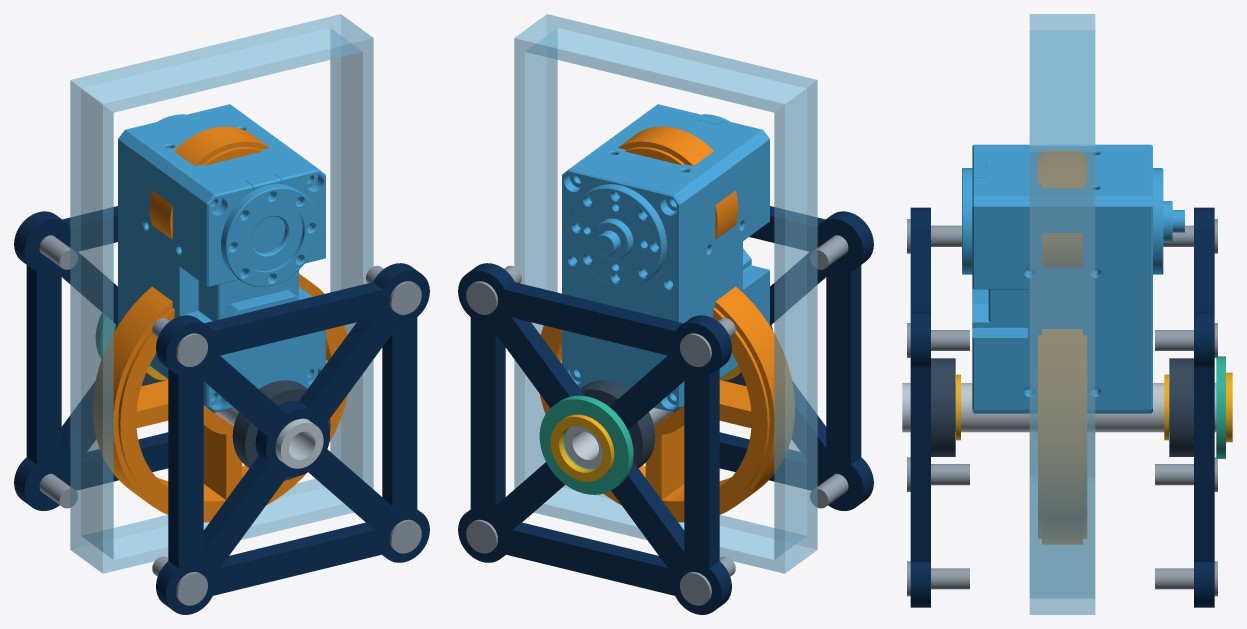
Rendered from JMF-09-KNEE-REDUCED-20_assembly.glb.
3 renders of one model, left to right at view 1: azimuth 30°, elevation 25°; view 2: azimuth 150°, elevation 25°; view 3: azimuth 270°, elevation 25°, orthographic.
Parts seen in each view (by area): view 1: TRANSMISSION_GUARD, CARRIER_A, ACTUATOR, CARRIER_B, TIMING_BELT, OUTPUT_PULLEY, OUTPUT_SHAFT, BEARING_A, CARRIER_A_SCREW_21, CARRIER_A_SCREW_22, CARRIER_A_SCREW_12, CARRIER_A_SCREW_11 (+2 smaller); view 2: TRANSMISSION_GUARD, CARRIER_B, ACTUATOR, CARRIER_A, TIMING_BELT, OUTPUT_PULLEY, OUTPUT_ENCODER_CARRIER, OUTPUT_MAGNET_HUB, BEARING_B, OUTPUT_SHAFT, CARRIER_B_SCREW_21, CARRIER_B_SCREW_22 (+4 smaller); view 3: ACTUATOR, TRANSMISSION_GUARD, TIMING_BELT, CARRIER_B, CARRIER_A, OUTPUT_SHAFT, BEARING_A, BEARING_B, OUTPUT_PULLEY, OUTPUT_ENCODER_CARRIER, CARRIER_A_SCREW_11, CARRIER_B_SCREW_11 (+7 smaller).
Part boxes in pixels (bbox=[...]): TRANSMISSION_GUARD: bbox=[70, 14, 373, 573]; CARRIER_A: bbox=[156, 263, 429, 614]; ACTUATOR: bbox=[118, 104, 325, 412]; CARRIER_B: bbox=[14, 206, 168, 510]; TIMING_BELT: bbox=[93, 126, 347, 522]; OUTPUT_PULLEY: bbox=[118, 282, 344, 518]; OUTPUT_SHAFT: bbox=[215, 408, 323, 468]; BEARING_A: bbox=[232, 380, 330, 480]; CARRIER_A_SCREW_21: bbox=[152, 556, 207, 605]; CARRIER_A_SCREW_22: bbox=[152, 318, 207, 366]; CARRIER_A_SCREW_12: bbox=[366, 265, 421, 314]; CARRIER_A_SCREW_11: bbox=[390, 519, 421, 553]; TRANSMISSION_GUARD: bbox=[514, 14, 817, 573]; CARRIER_B: bbox=[458, 263, 731, 614]; ACTUATOR: bbox=[562, 104, 769, 412]; CARRIER_A: bbox=[719, 206, 873, 510]; TIMING_BELT: bbox=[540, 126, 794, 522]; OUTPUT_PULLEY: bbox=[543, 308, 769, 518]; OUTPUT_ENCODER_CARRIER: bbox=[539, 395, 633, 494]; OUTPUT_MAGNET_HUB: bbox=[550, 414, 614, 481]; BEARING_B: bbox=[580, 380, 655, 468]; OUTPUT_SHAFT: bbox=[564, 408, 672, 468]; CARRIER_B_SCREW_21: bbox=[680, 556, 735, 605]; CARRIER_B_SCREW_22: bbox=[680, 318, 735, 366]; ACTUATOR: bbox=[962, 144, 1184, 413]; TRANSMISSION_GUARD: bbox=[1029, 14, 1095, 614]; TIMING_BELT: bbox=[1042, 150, 1082, 544]; CARRIER_B: bbox=[1194, 207, 1214, 607]; CARRIER_A: bbox=[910, 207, 930, 607]; OUTPUT_SHAFT: bbox=[902, 383, 1216, 432]; BEARING_A: bbox=[931, 358, 955, 456]; BEARING_B: bbox=[1169, 358, 1193, 456]; OUTPUT_PULLEY: bbox=[1038, 335, 1086, 538]; OUTPUT_ENCODER_CARRIER: bbox=[1216, 356, 1225, 458]; CARRIER_A_SCREW_11: bbox=[907, 561, 969, 596]; CARRIER_B_SCREW_11: bbox=[1155, 561, 1217, 596].
Bounding box in the file's own units: 76 × 127 × 80.4.
